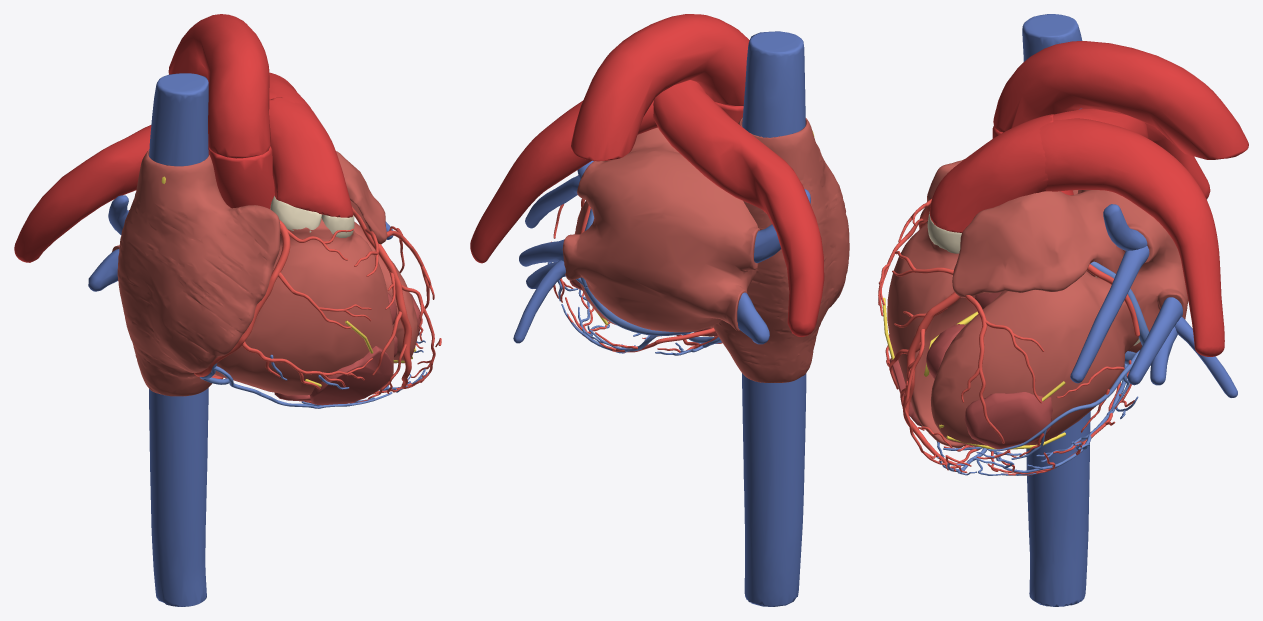
Rendered from heart.glb.
3 views of the same model, side by side, from view 1: azimuth 30°, elevation 25°; view 2: azimuth 150°, elevation 25°; view 3: azimuth 270°, elevation 25° (orthographic). The views are drawn at different scales.
Parts seen in each view (by area): view 1: right-atrium, right-ventricle, pulmonary-trunk, aorta, inferior-vena-cava, superior-vena-cava, left-anterior-descending-artery, right-coronary-artery, right-papillary-muscles, left-atrium, pulmonary-valve, pulmonary-veins (+2 smaller); view 2: left-atrium, pulmonary-trunk, aorta, inferior-vena-cava, right-atrium, superior-vena-cava, pulmonary-veins, cardiac-veins, right-coronary-artery, coronary-sinus; view 3: pulmonary-trunk, left-ventricle, left-atrium, aorta, inferior-vena-cava, right-ventricle, pulmonary-veins, left-papillary-muscles, left-anterior-descending-artery, cardiac-veins, right-coronary-artery, superior-vena-cava (+4 smaller).
Part boxes in pixels (box(x1,y1,x2,y2)): right-atrium: box(117, 150, 280, 396); right-ventricle: box(215, 218, 394, 395); pulmonary-trunk: box(14, 72, 353, 262); aorta: box(168, 14, 274, 208); inferior-vena-cava: box(149, 388, 208, 606); superior-vena-cava: box(149, 73, 208, 166); left-anterior-descending-artery: box(352, 207, 441, 398); right-coronary-artery: box(194, 220, 418, 403); right-papillary-muscles: box(274, 346, 392, 405); left-atrium: box(112, 151, 387, 251); pulmonary-valve: box(270, 196, 354, 237); pulmonary-veins: box(88, 195, 393, 291); left-atrium: box(562, 127, 760, 332); pulmonary-trunk: box(470, 80, 824, 336); aorta: box(571, 14, 749, 161); inferior-vena-cava: box(742, 373, 806, 606); right-atrium: box(713, 117, 849, 382); superior-vena-cava: box(742, 31, 805, 137); pulmonary-veins: box(513, 160, 810, 344); cardiac-veins: box(547, 208, 721, 355); right-coronary-artery: box(565, 292, 722, 352); coronary-sinus: box(584, 286, 695, 336); pulmonary-trunk: box(929, 108, 1224, 356); left-ventricle: box(931, 271, 1138, 446); left-atrium: box(952, 190, 1188, 352); aorta: box(992, 41, 1248, 195); inferior-vena-cava: box(1026, 411, 1090, 606); right-ventricle: box(887, 224, 976, 448); pulmonary-veins: box(1070, 204, 1237, 397); left-papillary-muscles: box(926, 324, 1052, 449); left-anterior-descending-artery: box(889, 251, 1044, 472); cardiac-veins: box(936, 261, 1149, 475); right-coronary-artery: box(878, 199, 1134, 475); superior-vena-cava: box(1022, 14, 1082, 109).
Bounding box in the file's own units: 0.1408 × 0.2222 × 0.1267.
